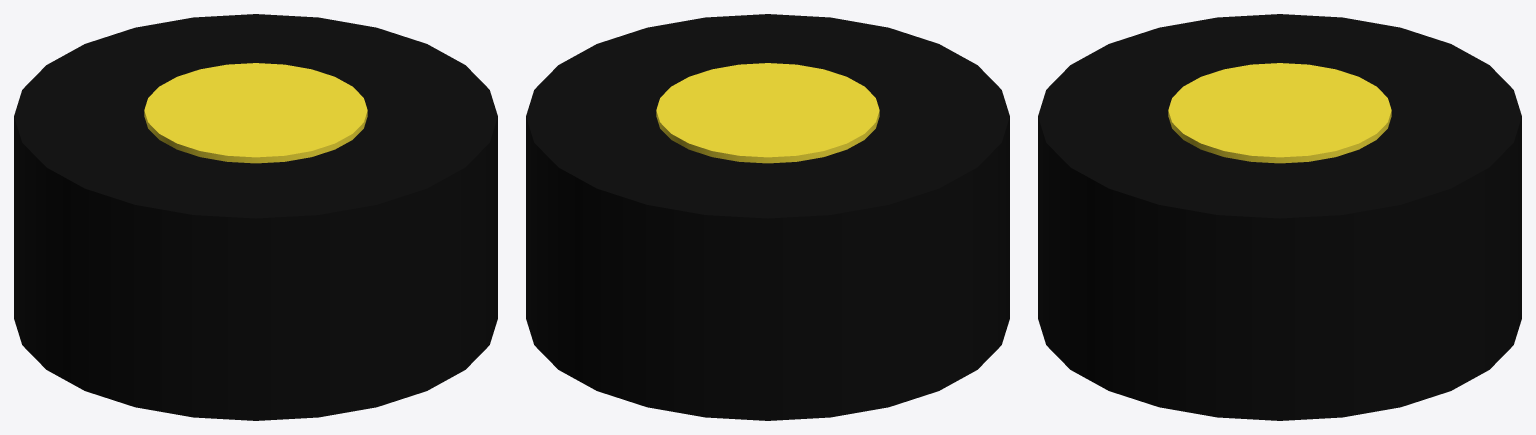
The model's file is LlantaAtrasCosechadora.obj.
The picture shows the model from 3 angles, left to right: view 1: azimuth 30°, elevation 25°; view 2: azimuth 150°, elevation 25°; view 3: azimuth 270°, elevation 25°; orthographic projection.
Visible parts, largest first — view 1: LlantaAtrasCosechadora; view 2: LlantaAtrasCosechadora; view 3: LlantaAtrasCosechadora.
Part boxes in pixels (x1,y1,x2,y2): LlantaAtrasCosechadora: (14,14,497,420); LlantaAtrasCosechadora: (526,14,1009,420); LlantaAtrasCosechadora: (1038,14,1521,420).
Bounding box in the file's own units: 1.3 × 0.618 × 1.3.
